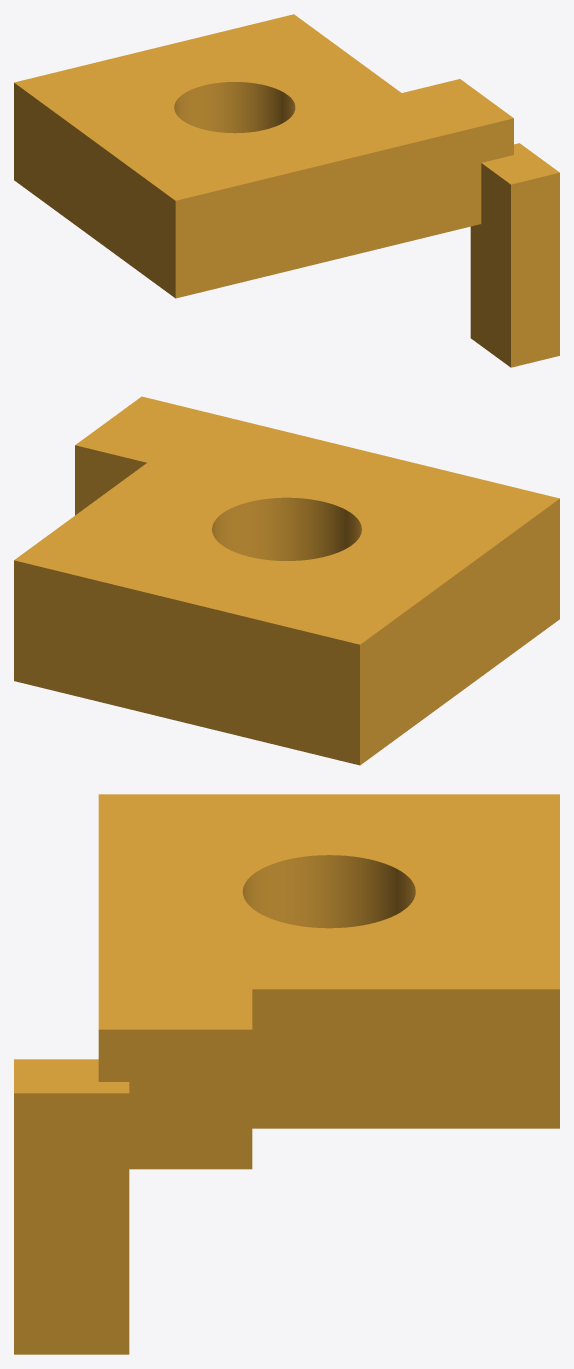
The model's file is jetson_gate_left.glb.
3 views of the same model, one above another, from view 1: azimuth 30°, elevation 25°; view 2: azimuth 150°, elevation 25°; view 3: azimuth 270°, elevation 25° (orthographic). The views are drawn at different scales.
Visible parts, largest first — view 1: jetson_gate_left; view 2: jetson_gate_left; view 3: jetson_gate_left.
Part boxes in pixels (x1,y1,x2,y2): jetson_gate_left: (14,14,559,367); jetson_gate_left: (14,396,559,765); jetson_gate_left: (14,794,559,1354).
Bounding box in the file's own units: 0.0152 × 0.009 × 0.0142.
